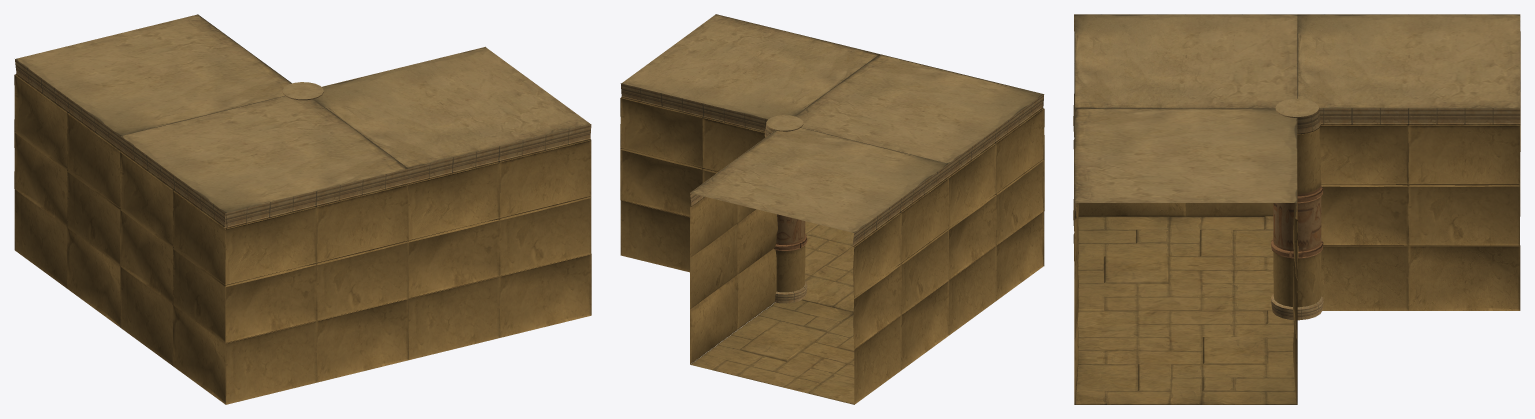
The model's file is m_Corner01.FBX.
3 views of the same model, side by side, from view 1: azimuth 30°, elevation 25°; view 2: azimuth 150°, elevation 25°; view 3: azimuth 270°, elevation 25° (orthographic). The views are drawn at different scales.
Parts seen in each view (by area): view 1: m_Corner01; view 2: m_Corner01; view 3: m_Corner01.
Boxes of the visible parts, x1,y1,x2,y2 form: m_Corner01: [14, 14, 591, 404]; m_Corner01: [620, 14, 1044, 404]; m_Corner01: [1073, 14, 1520, 404].
Size of the model in its own units: 201 by 201 by 100.
Materials: 1 (1 with a texture image).
